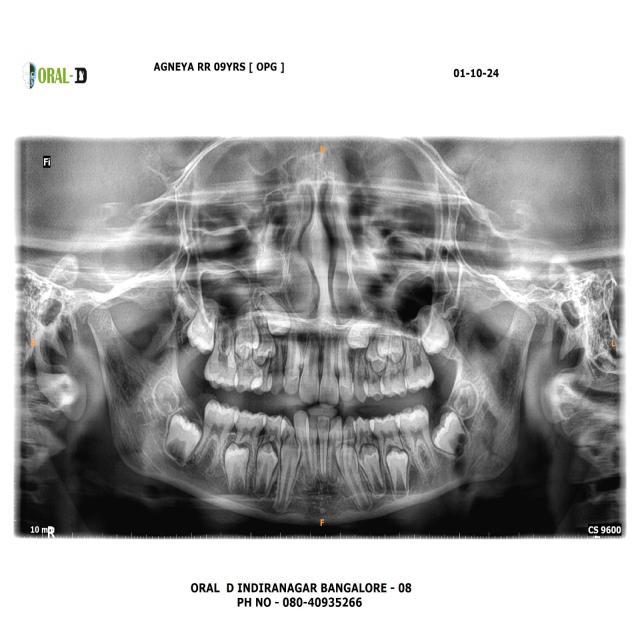Premolars: (369, 414, 409, 472), (354, 413, 379, 457)
